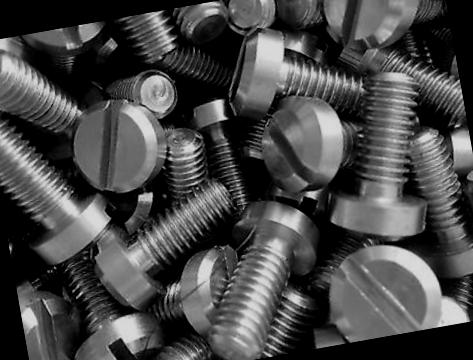slotted: (321, 238, 444, 345), (63, 90, 170, 198)
